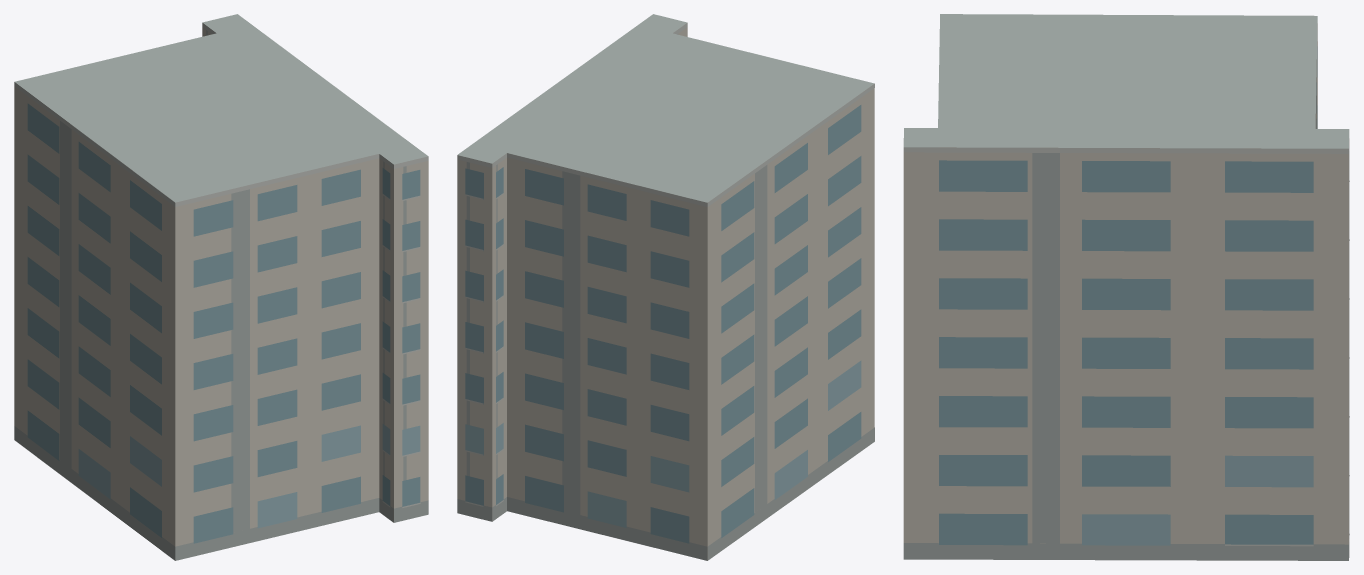
The model's file is survey-upis-32872897.glb.
3 views of the same model, side by side, from view 1: azimuth 30°, elevation 25°; view 2: azimuth 150°, elevation 25°; view 3: azimuth 270°, elevation 25° (orthographic). The views are drawn at different scales.
Parts seen in each view (by area): view 1: survey-upis-32872897.tmp; view 2: survey-upis-32872897.tmp; view 3: survey-upis-32872897.tmp.
Boxes of the visible parts, box(x1,y1,x2,y2) form: survey-upis-32872897.tmp: box(14, 14, 428, 560); survey-upis-32872897.tmp: box(457, 14, 874, 560); survey-upis-32872897.tmp: box(903, 14, 1349, 560).
Size of the model in its own units: 13.75 by 19.6 by 19.23.
